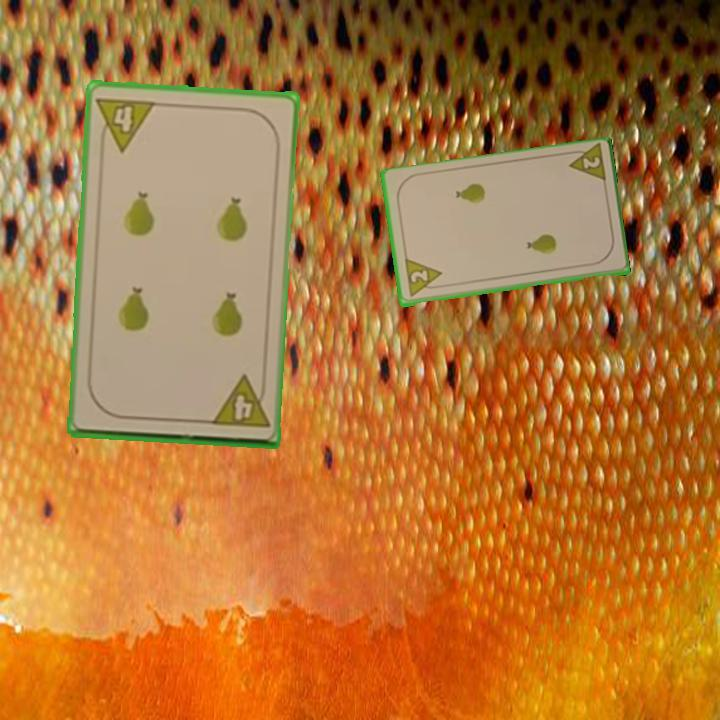2p: (562, 142, 609, 187), (401, 257, 446, 300)
4p: (93, 93, 158, 154), (207, 372, 272, 431)
